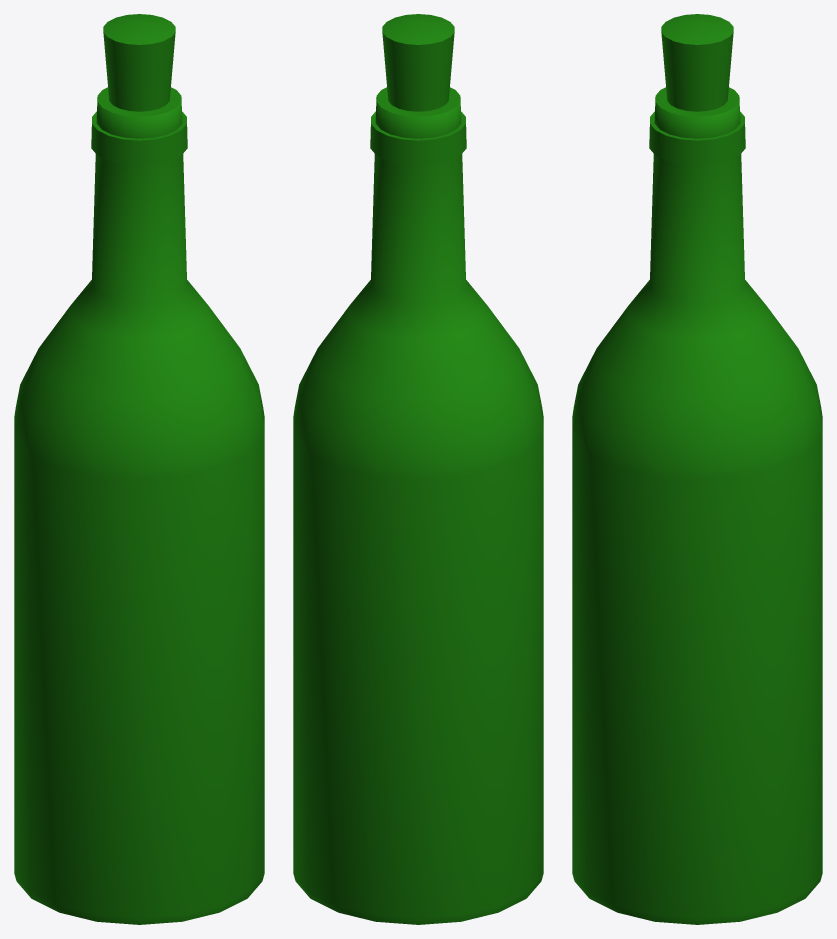
Rendered from bottle.FBX.
The picture shows the model from 3 angles, left to right: view 1: azimuth 30°, elevation 25°; view 2: azimuth 150°, elevation 25°; view 3: azimuth 270°, elevation 25°; orthographic projection.
Parts seen in each view (by area): view 1: bottle; view 2: bottle; view 3: bottle.
Boxes of the visible parts, left/top/right/bottom form: bottle: left=14, top=14, right=264, bottom=924; bottle: left=293, top=14, right=543, bottom=924; bottle: left=572, top=14, right=822, bottom=924.
Bounding box in the file's own units: 2.55 × 9.44 × 2.51.
